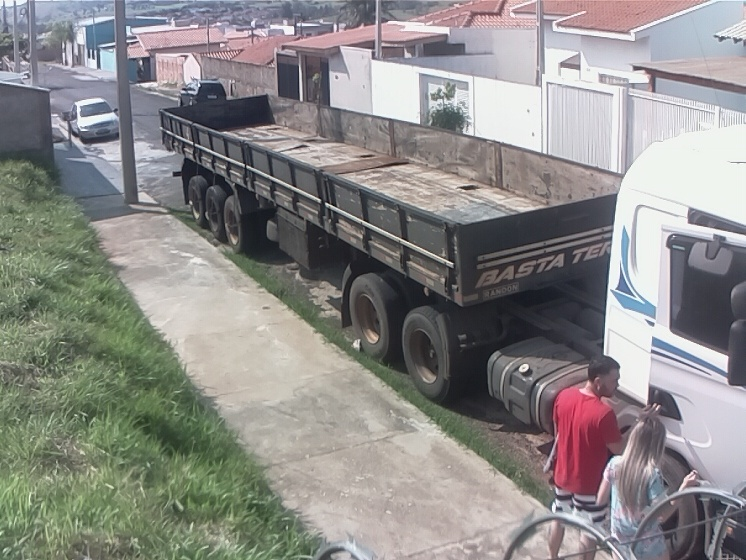person: (546, 352, 633, 560), (594, 413, 700, 560)
